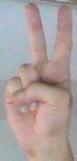V: (0, 1, 76, 153)
